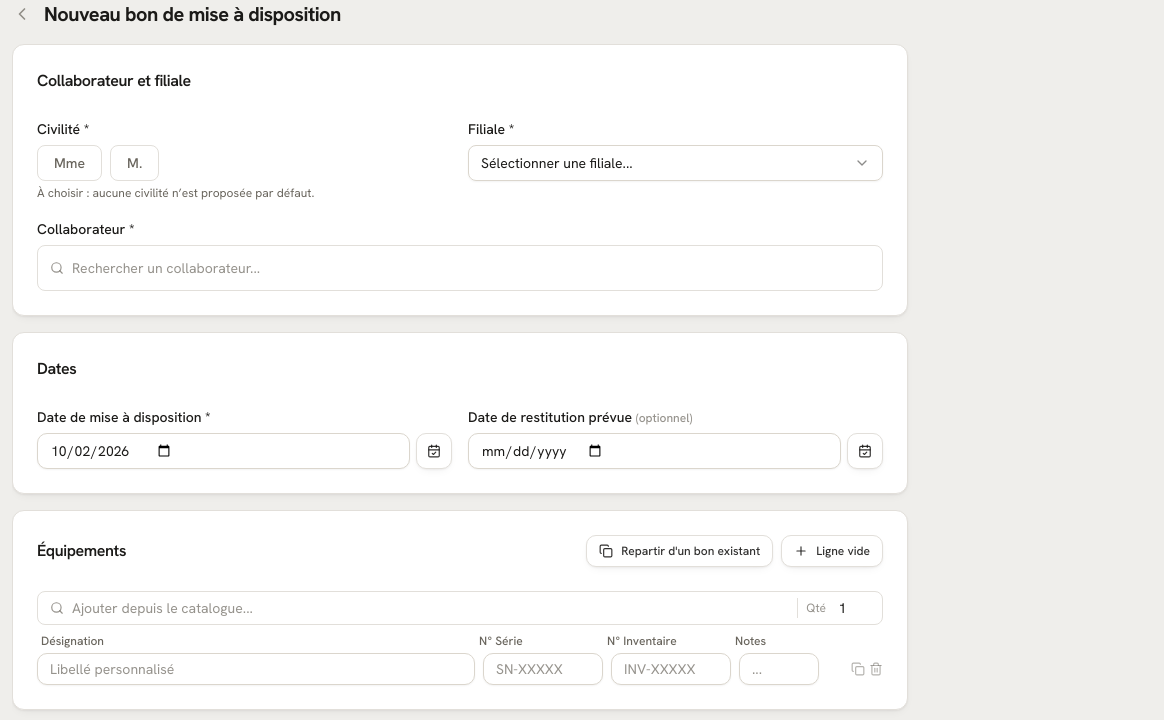
Test: BonCreatePage — conflit de numéro de série au fil de la saisie (C6) › signale un conflit dès la sortie du champ, avant toute soumission
Step 1. Type "Laptop A" into the field with placeholder "Libellé personnalisé" → (256, 669), box left=37, top=653, right=475, bottom=685
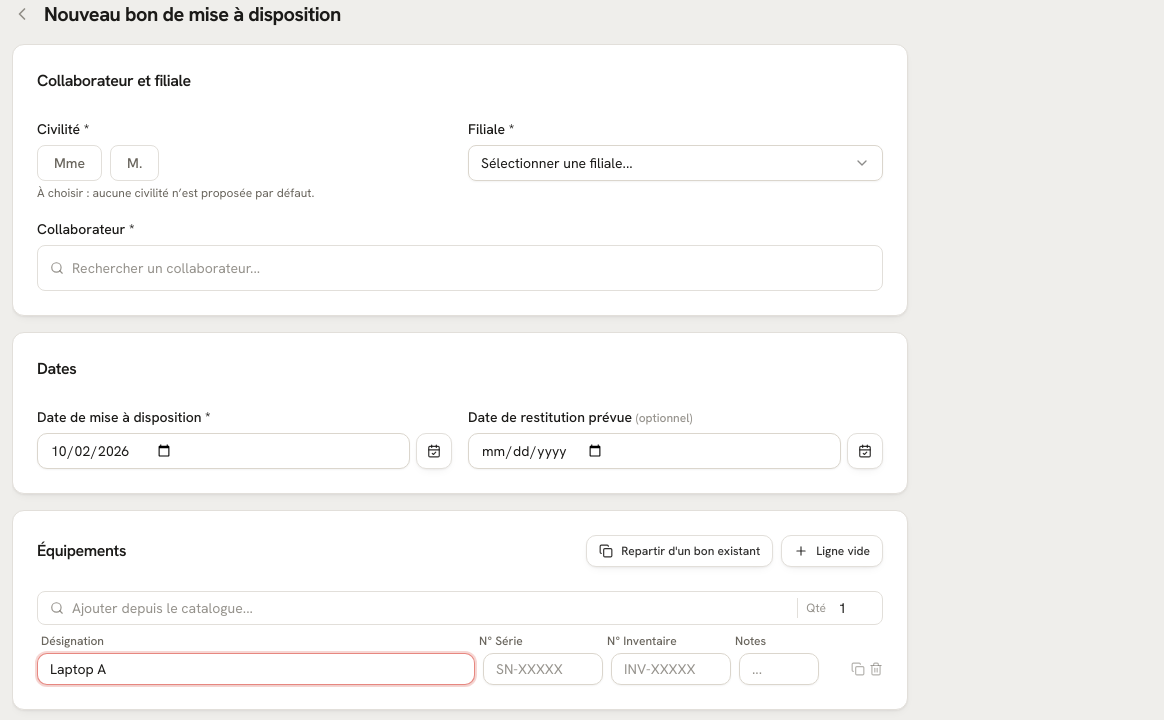
Step 2. Type "SN-999" into the field with placeholder "SN-XXXXX" → (543, 669), box left=483, top=653, right=603, bottom=685
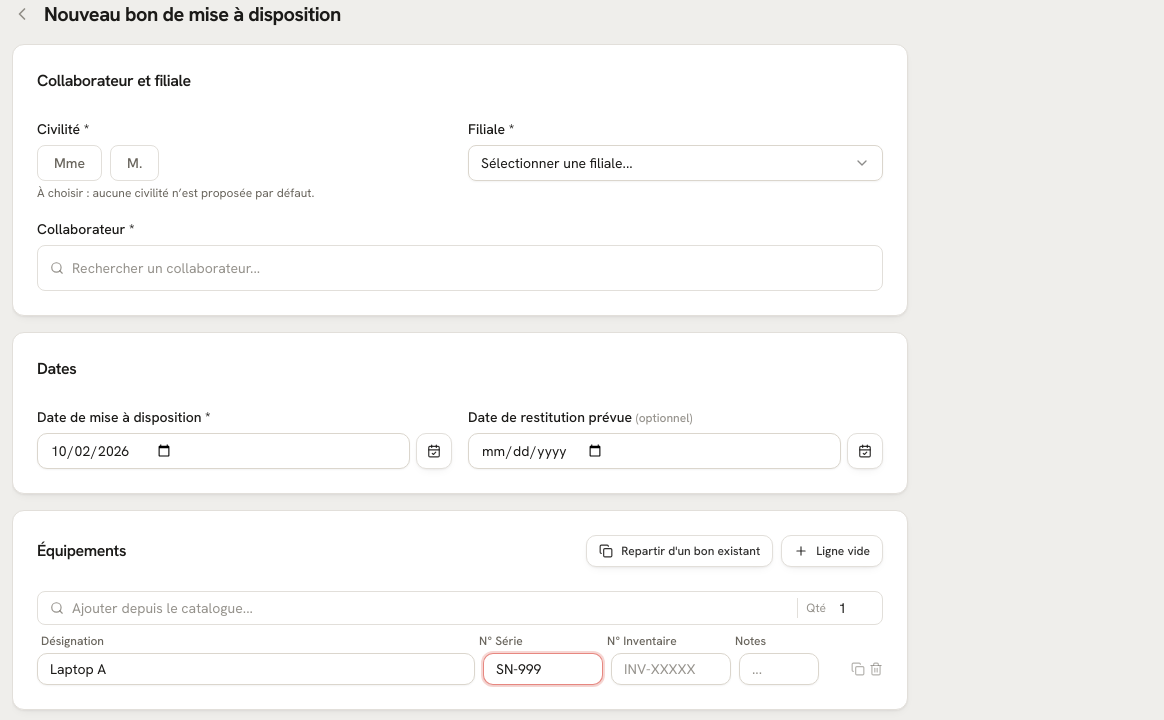
Step 3. Press Tab
(page scrolled)
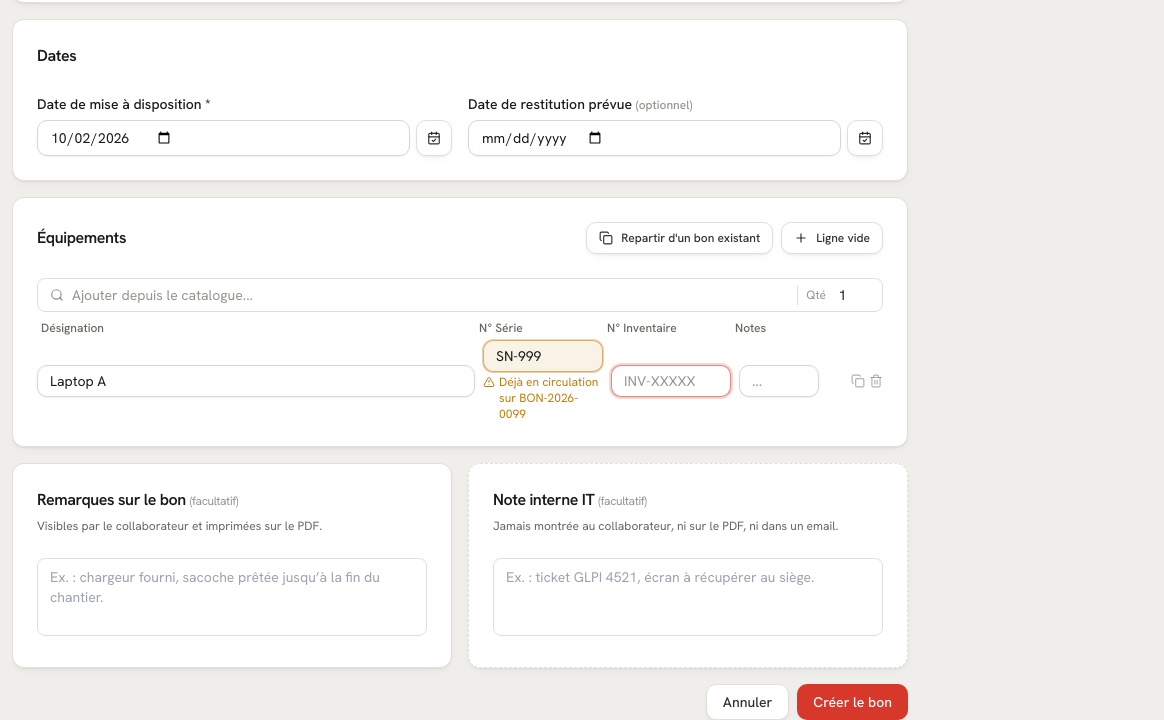
Expected: the text "Déjà en circulation sur BON-2026-0099" is shown, left=483, top=374, right=603, bottom=422
